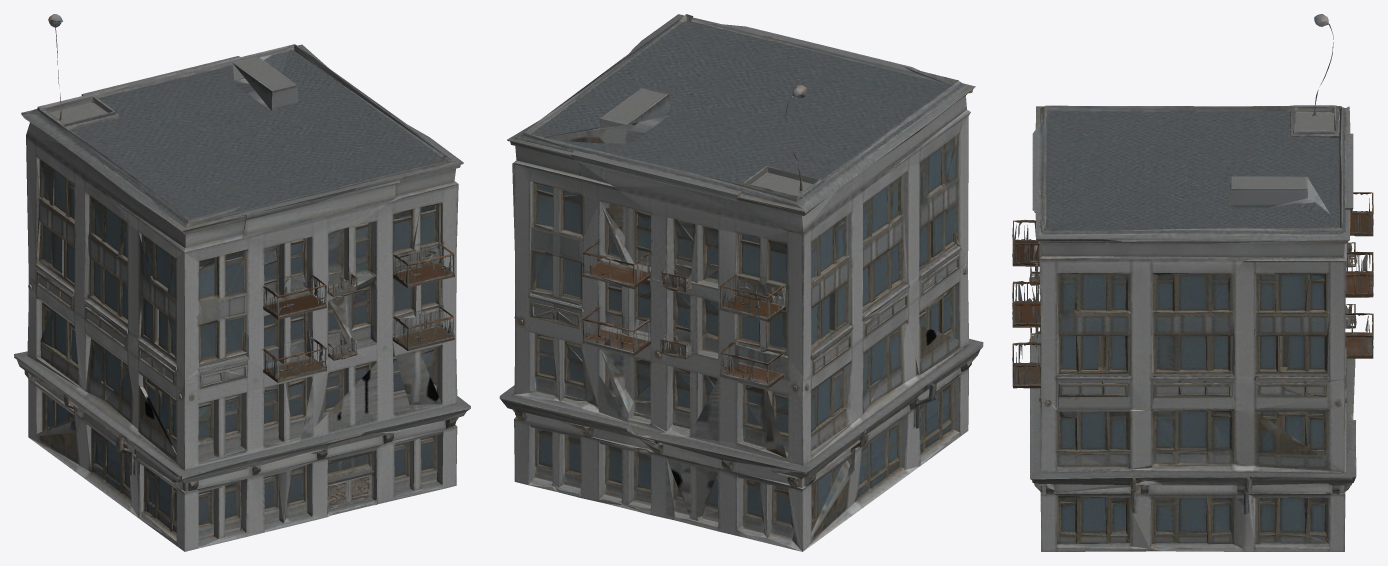
Rendered from city_building_5.glb.
3 renders of one model, left to right at view 1: azimuth 30°, elevation 25°; view 2: azimuth 150°, elevation 25°; view 3: azimuth 270°, elevation 25°, orthographic. The views are drawn at different scales.
Parts seen in each view (by area): view 1: output_unwrapped; view 2: output_unwrapped; view 3: output_unwrapped.
Boxes of the visible parts, box(x1,y1,x2,y2) form: output_unwrapped: box(14, 14, 470, 551); output_unwrapped: box(499, 14, 983, 551); output_unwrapped: box(1012, 14, 1373, 551).
Bounding box in the file's own units: 1.43 × 1.9 × 1.5.
Materials: 1 (1 with a texture image).
